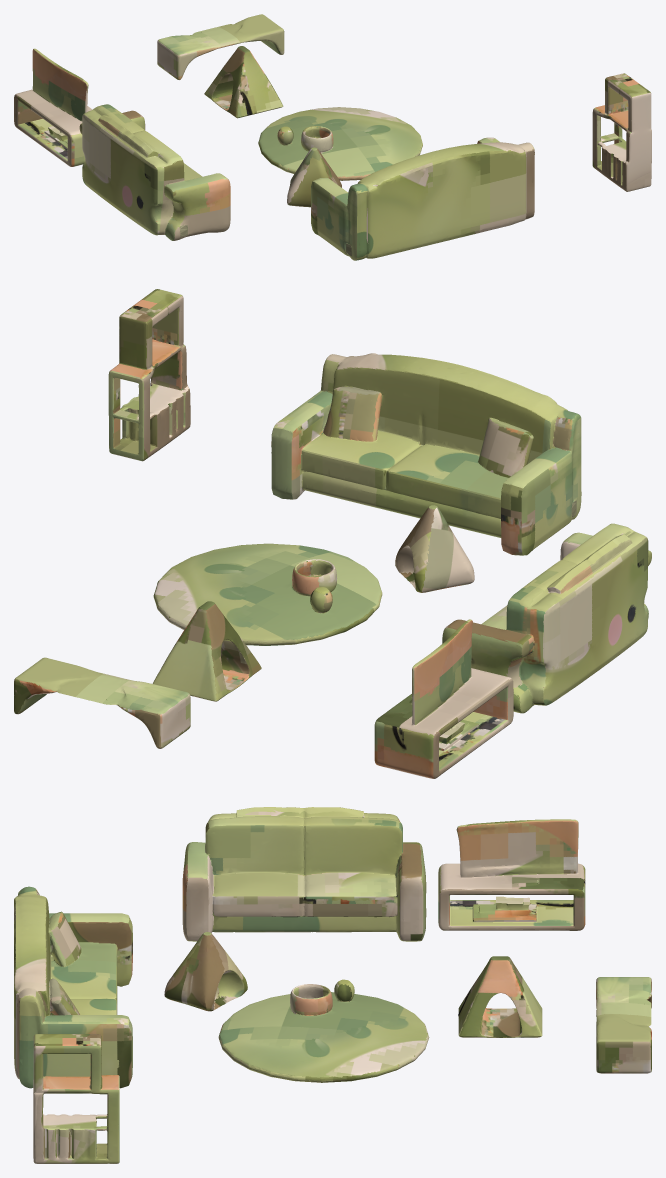
File: furniture.fbx
3 renders of one model, top to bottom at view 1: azimuth 30°, elevation 25°; view 2: azimuth 150°, elevation 25°; view 3: azimuth 270°, elevation 25°, orthographic. The views are drawn at different scales.
Visible parts, largest first — view 1: sofapillow, sofa, rag, TV, bookself, table, house1, house; view 2: sofapillow, sofa, rag, TV, bookself, table, house1, house; view 3: sofa, sofapillow, rag, TV, bookself, table, house1, house.
Part boxes in pixels (x1,y1,x2,y2): sofapillow: (311, 137, 534, 260); sofa: (79, 104, 230, 240); rag: (258, 107, 422, 180); TV: (14, 48, 92, 166); bookself: (592, 73, 651, 191); table: (157, 14, 284, 79); house1: (204, 46, 283, 118); house: (287, 147, 341, 207); sofapillow: (271, 353, 581, 555); sofa: (442, 523, 651, 713); rag: (153, 543, 382, 645); TV: (374, 619, 513, 778); bookself: (108, 289, 190, 461); table: (14, 657, 190, 748); house1: (152, 601, 261, 701); house: (395, 505, 474, 592); sofa: (182, 807, 426, 941); sofapillow: (14, 886, 132, 1088); rag: (218, 979, 429, 1082); TV: (438, 819, 585, 930); bookself: (33, 1034, 119, 1163); table: (596, 977, 651, 1073); house1: (458, 956, 542, 1037); house: (164, 932, 247, 1011).
Bounding box in the file's own units: 185 × 190 × 39.51.
